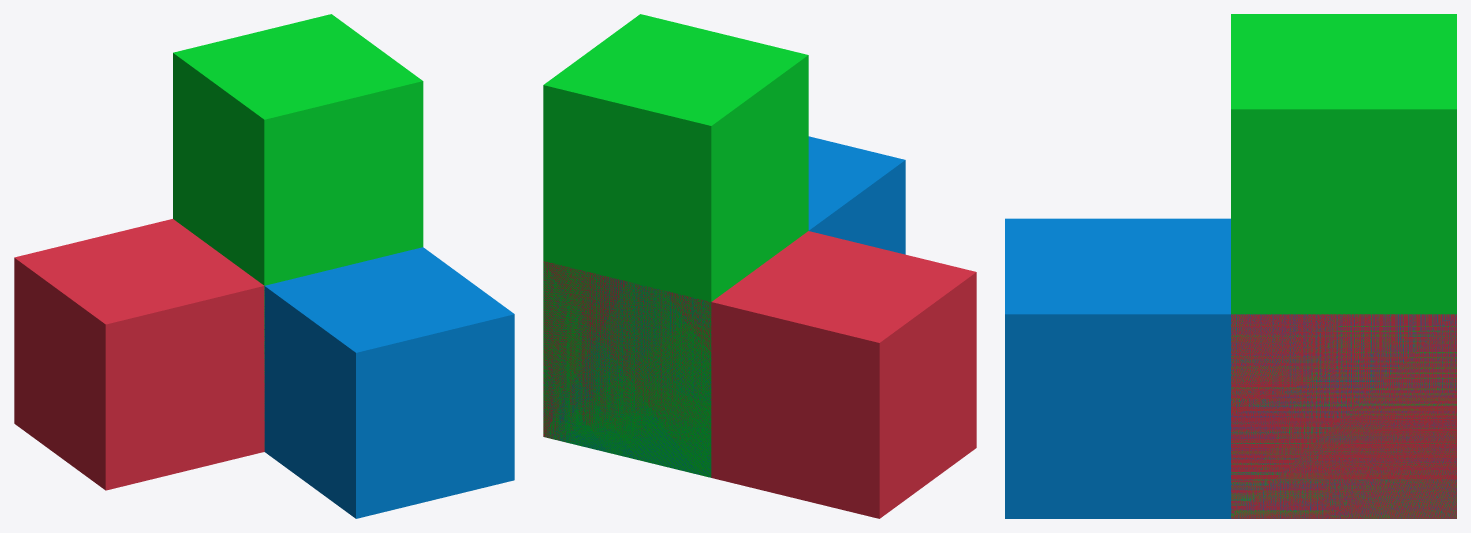
The model's file is coord2.glb.
The picture shows the model from 3 angles, left to right: view 1: azimuth 30°, elevation 25°; view 2: azimuth 150°, elevation 25°; view 3: azimuth 270°, elevation 25°; orthographic projection. The views are drawn at different scales.
Visible parts, largest first — view 1: CubeGreen, CubeBlue, CubeRed; view 2: CubeGreen, CubeRed, CubeBlue; view 3: CubeBlue, CubeGreen, CubeRed.
Boxes of the visible parts, x1,y1,x2,y2 form: CubeGreen: (173, 14, 423, 420); CubeBlue: (264, 247, 514, 518); CubeRed: (14, 219, 264, 490); CubeGreen: (543, 14, 808, 477); CubeRed: (543, 231, 976, 518); CubeBlue: (543, 136, 905, 477); CubeBlue: (1005, 218, 1456, 518); CubeGreen: (1231, 14, 1456, 518); CubeRed: (1231, 314, 1456, 518).
Size of the model in its own units: 2 by 2 by 2.
